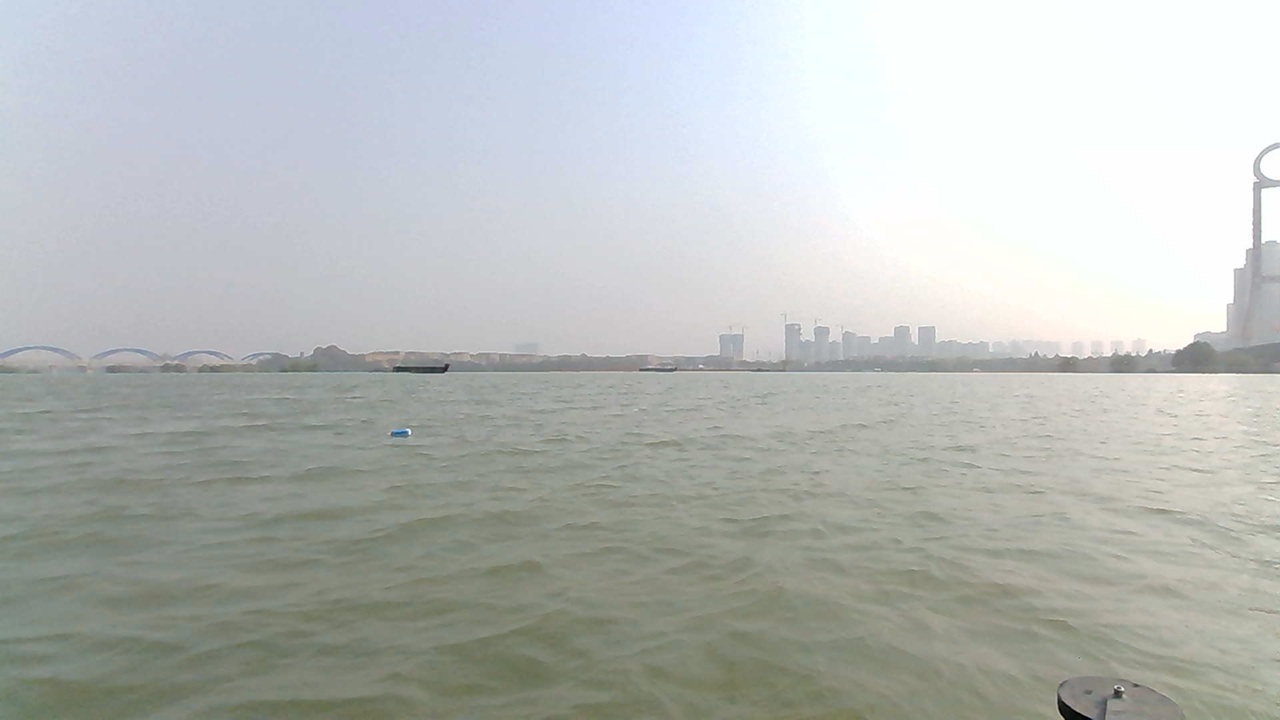bottle: (386, 427, 418, 442)
